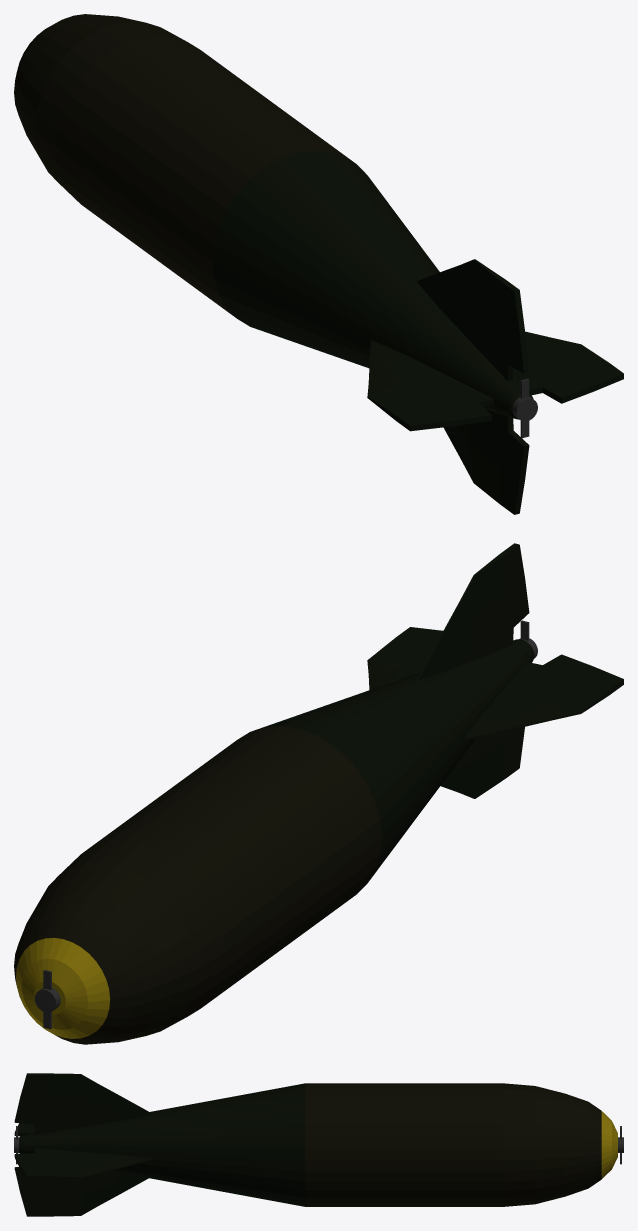
3 renders of one model, top to bottom at view 1: azimuth 30°, elevation 25°; view 2: azimuth 150°, elevation 25°; view 3: azimuth 270°, elevation 25°, orthographic. The views are drawn at different scales.
Visible parts, largest first — view 1: Fuselage_Cylinder, Fans_Cylinder.001; view 2: Fuselage_Cylinder, Fans_Cylinder.001; view 3: Fuselage_Cylinder, Fans_Cylinder.001.
Boxes of the visible parts, <box> form: Fuselage_Cylinder: <box>14,14,623,514</box>; Fans_Cylinder.001: <box>512,378,537,438</box>; Fuselage_Cylinder: <box>14,543,623,1044</box>; Fans_Cylinder.001: <box>35,620,537,1029</box>; Fuselage_Cylinder: <box>14,1073,617,1216</box>; Fans_Cylinder.001: <box>14,1126,623,1164</box>.
Bounding box in the file's own units: 1.12 × 1.12 × 4.36.
